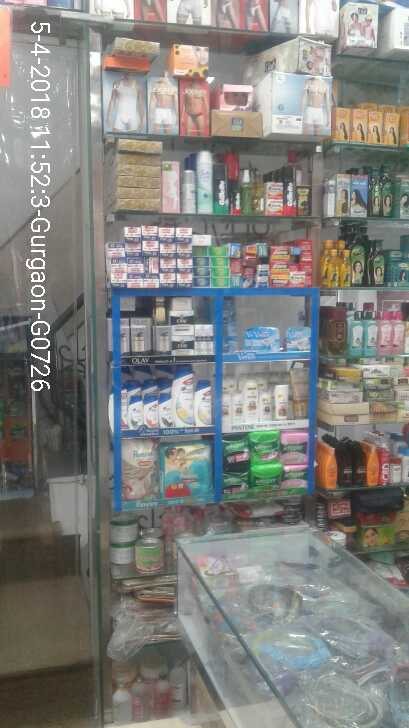ambipureVesus: (197, 151, 211, 214)
gillete: (228, 151, 240, 214), (213, 165, 226, 214), (284, 167, 294, 218)
venus: (224, 295, 238, 350), (243, 329, 280, 347), (286, 326, 311, 350)
